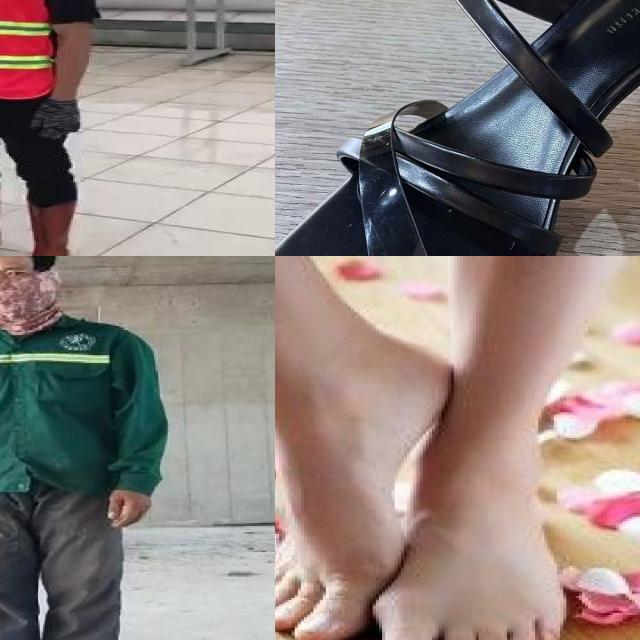Barefoots: (275, 338, 459, 640)
Sandals: (275, 0, 640, 256)
boots: (16, 202, 76, 256)
face_mask: (0, 267, 42, 318), (0, 256, 54, 273)
hand_glove: (26, 98, 84, 139)
hand_noglove: (102, 481, 160, 534)
person: (0, 256, 169, 640), (0, 0, 106, 256)
vest: (0, 0, 58, 99)
